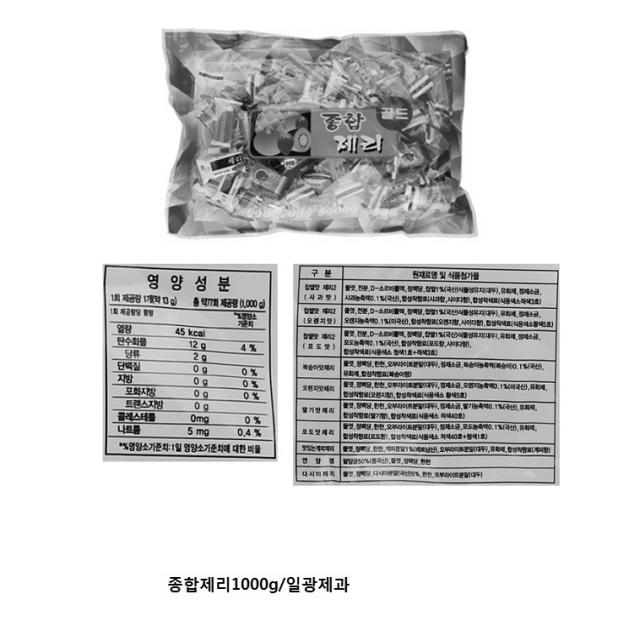Nutrition Label: (86, 259, 283, 471)
